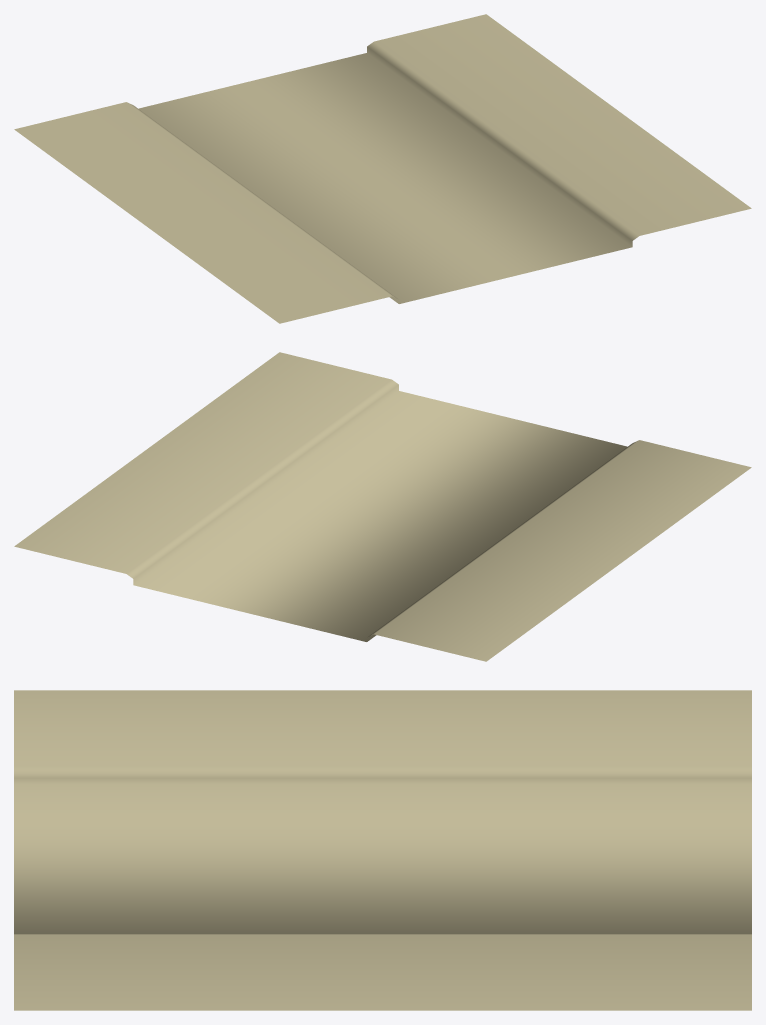
Rendered from LightPool.glb.
3 views of the same model, one above another, from view 1: azimuth 30°, elevation 25°; view 2: azimuth 150°, elevation 25°; view 3: azimuth 270°, elevation 25° (orthographic). The views are drawn at different scales.
Visible parts, largest first — view 1: LightPool; view 2: LightPool; view 3: LightPool.
Boxes of the visible parts, left/top/right/bottom form: LightPool: left=14, top=14, right=751, bottom=323; LightPool: left=14, top=352, right=751, bottom=661; LightPool: left=14, top=690, right=751, bottom=1010.
Size of the model in its own units: 8.07 by 0.1561 by 7.86.
